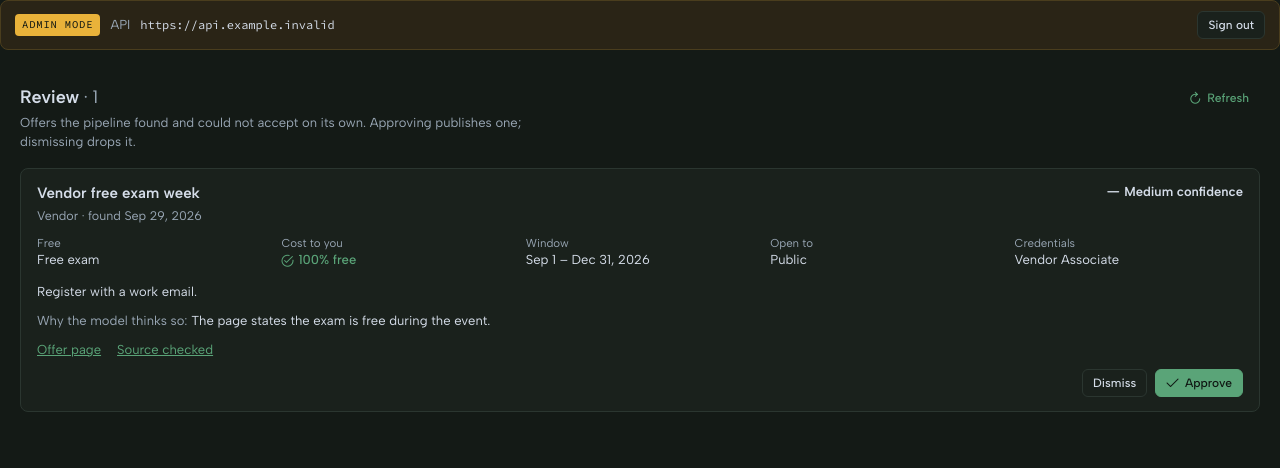
Test: AdminPanel › keeps the card and shows why when a decision is refused
Click the button "Dismiss". click: (1115, 383)
box: 1082,369 -> 1147,397
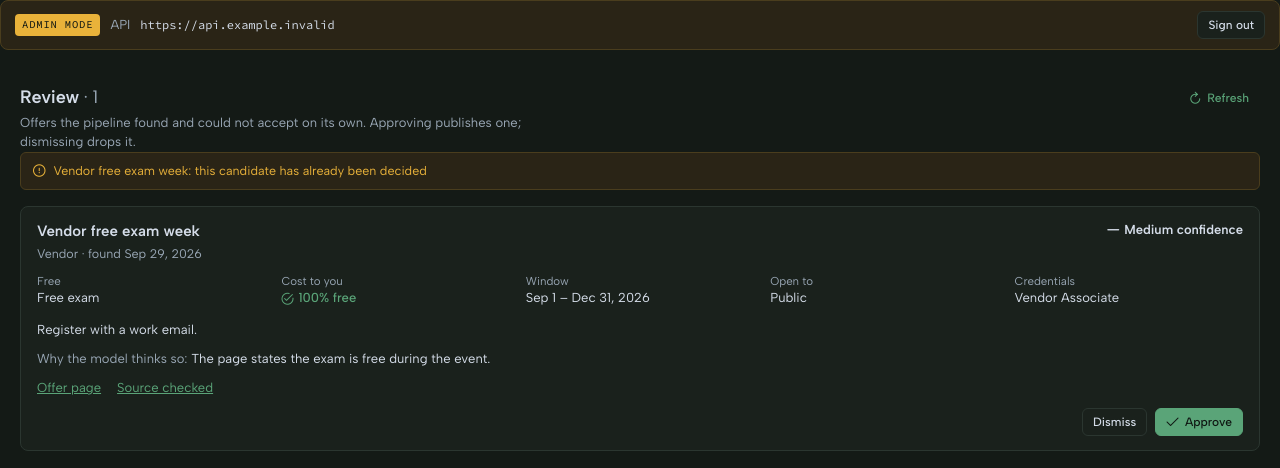
Expected: the message shows "already been decided", 54,163 -> 427,178
